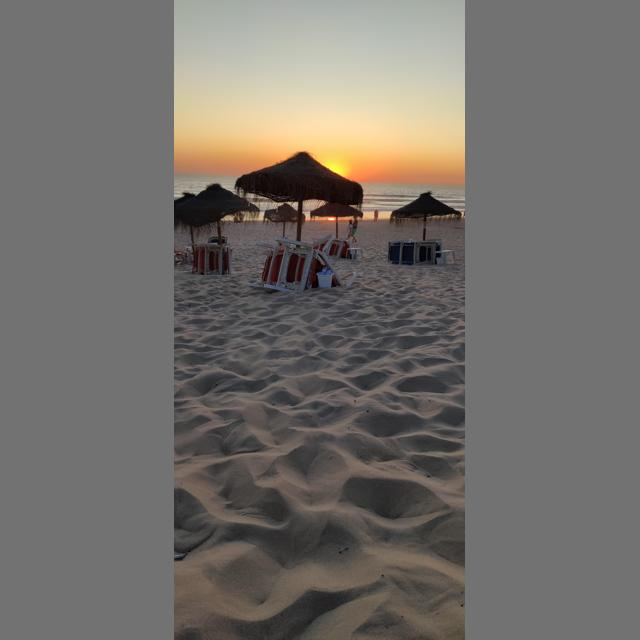litter: (320, 265, 328, 275), (174, 554, 186, 559), (325, 268, 331, 275)
